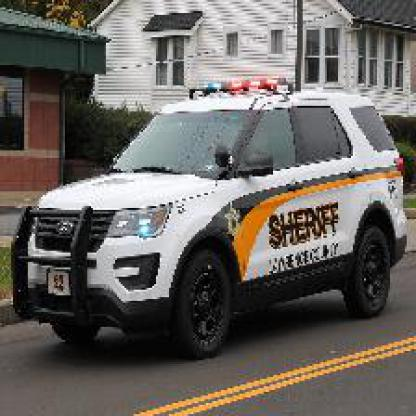emergency: (24, 69, 403, 354)
